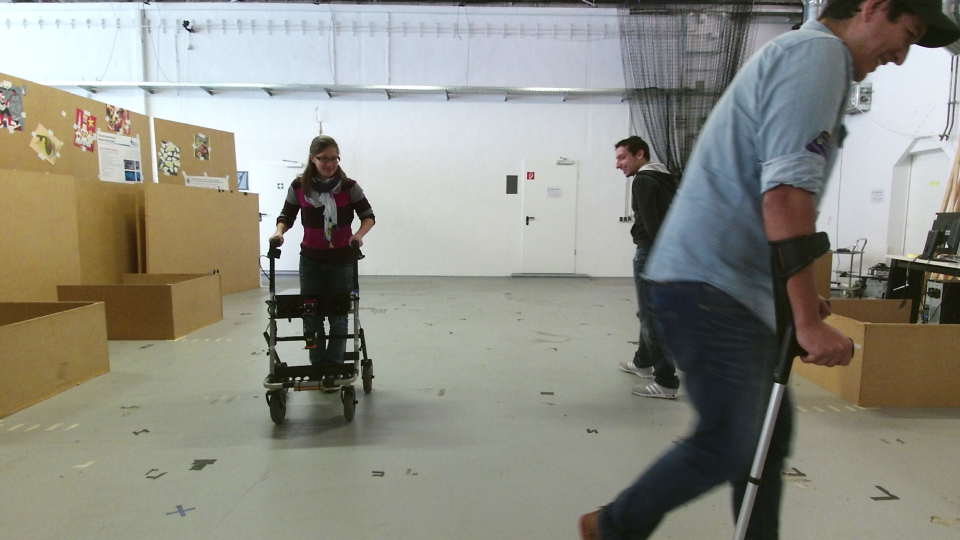crutches: (599, 1, 910, 540)
